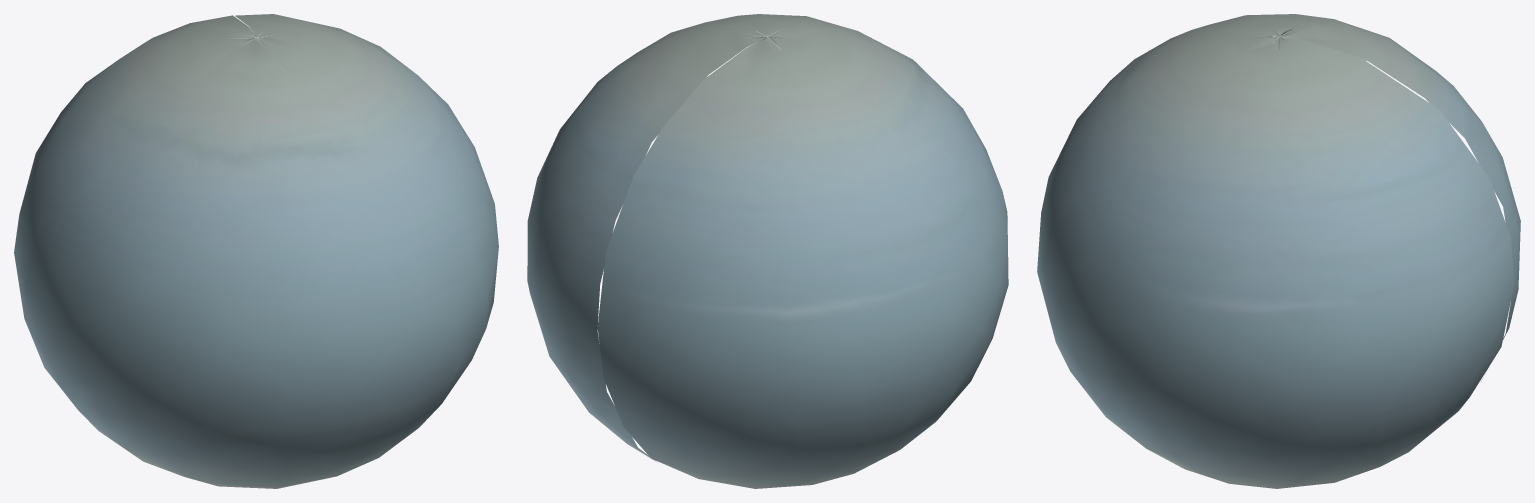
The model's file is uranus-small.glb.
3 renders of one model, left to right at view 1: azimuth 30°, elevation 25°; view 2: azimuth 150°, elevation 25°; view 3: azimuth 270°, elevation 25°, orthographic.
Parts seen in each view (by area): view 1: Body; view 2: Body; view 3: Body.
Boxes of the visible parts, left/top/right/bottom form: Body: left=14, top=14, right=498, bottom=488; Body: left=527, top=14, right=1008, bottom=488; Body: left=1037, top=14, right=1520, bottom=488.
Size of the model in its own units: 1.99 by 1.96 by 2.
1 material, 1 textured.
